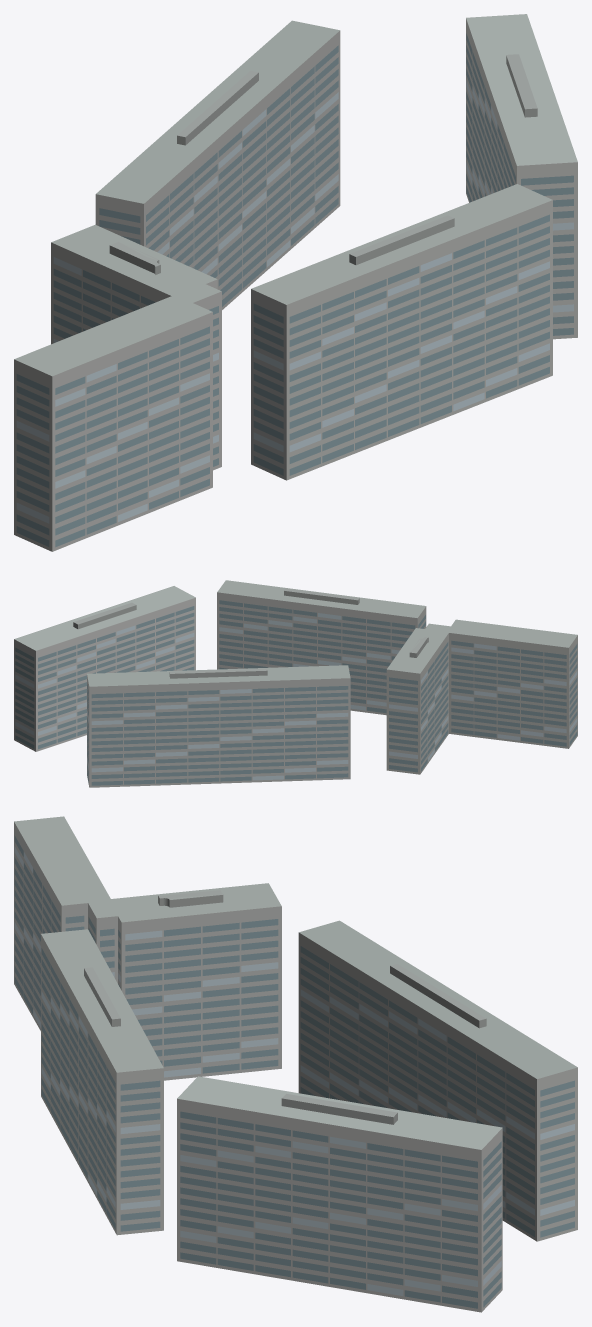
The model's file is apt-a13611004.glb.
The picture shows the model from 3 angles, top to bottom: view 1: azimuth 30°, elevation 25°; view 2: azimuth 150°, elevation 25°; view 3: azimuth 270°, elevation 25°; orthographic projection. The views are drawn at different scales.
Visible parts, largest first — view 1: apt-a13611004; view 2: apt-a13611004; view 3: apt-a13611004.
Boxes of the visible parts, bbox=[...] form: apt-a13611004: bbox=[14, 14, 577, 551]; apt-a13611004: bbox=[14, 580, 577, 787]; apt-a13611004: bbox=[14, 816, 577, 1312].
Bounding box in the file's own units: 172 × 41 × 123.
